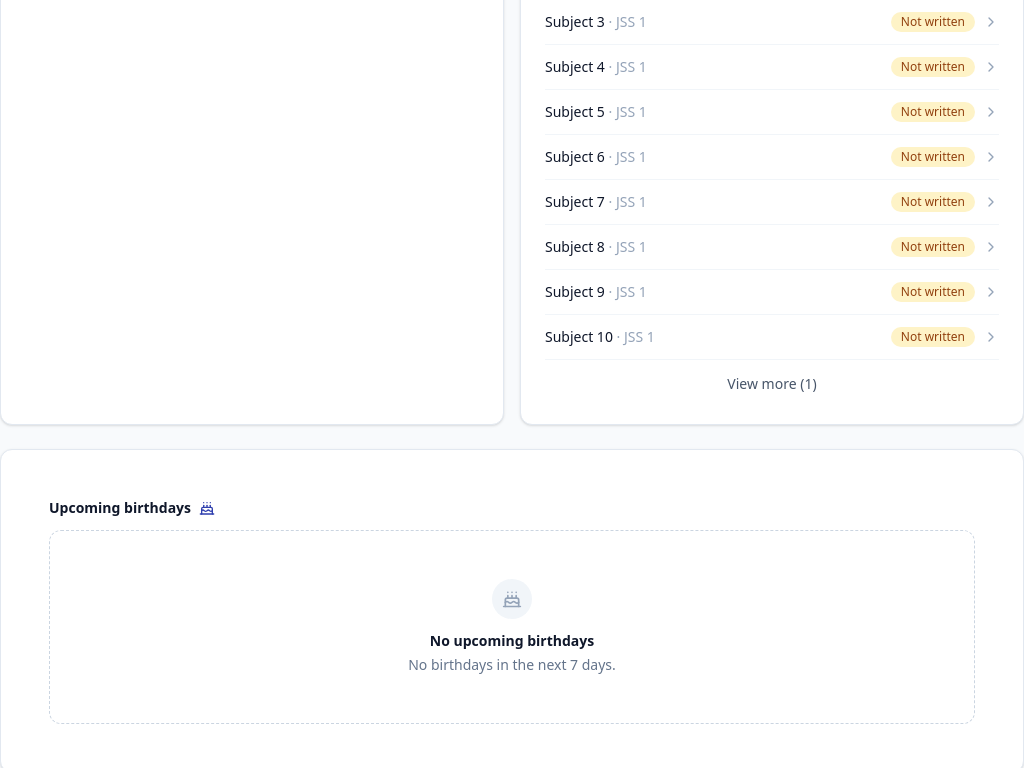
Test: SchoolDashboardPage › caps this week's missing lesson notes at 10 rows, revealing the rest with View more
This screenshot has width=1024, height=768.
(page scrolled)
Expected: the text "Subject 10" is shown, x1=545 y1=327 x2=613 y2=346
Expected: the text "Subject 11" is not shown
Click the button "View more (1)".
click(772, 384)  # box x1=715 y1=368 x2=829 y2=400
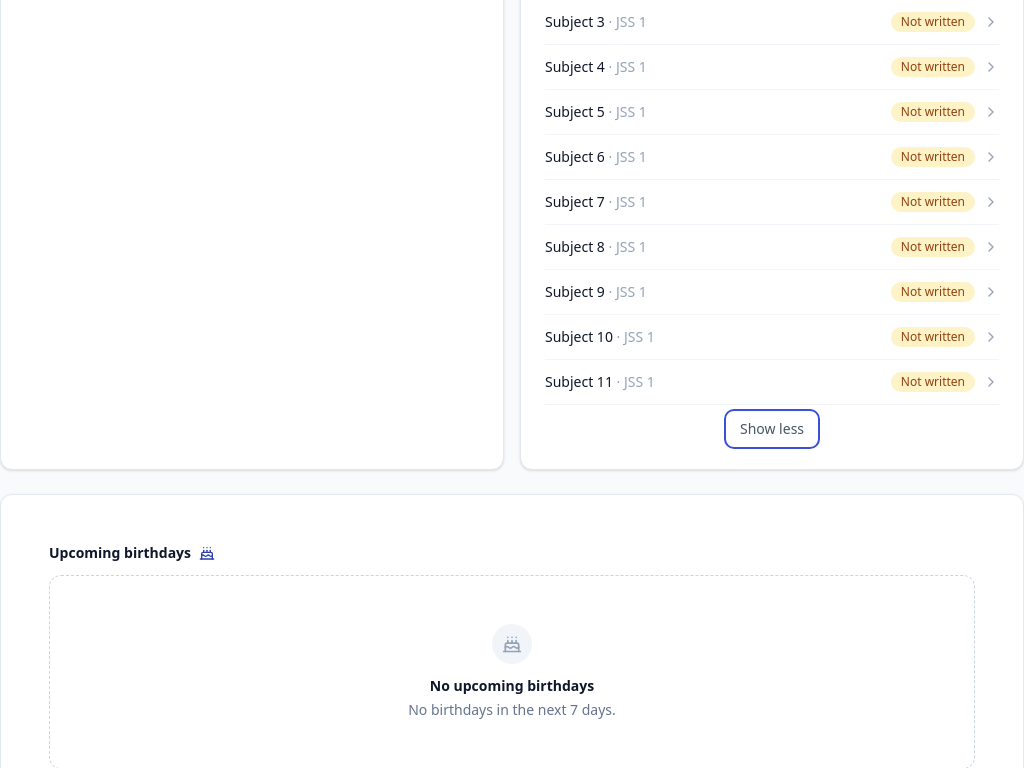
Result: the text "Subject 11" is shown at x1=545 y1=372 x2=613 y2=391
Result: the button "Show less" is shown at x1=728 y1=413 x2=816 y2=445
